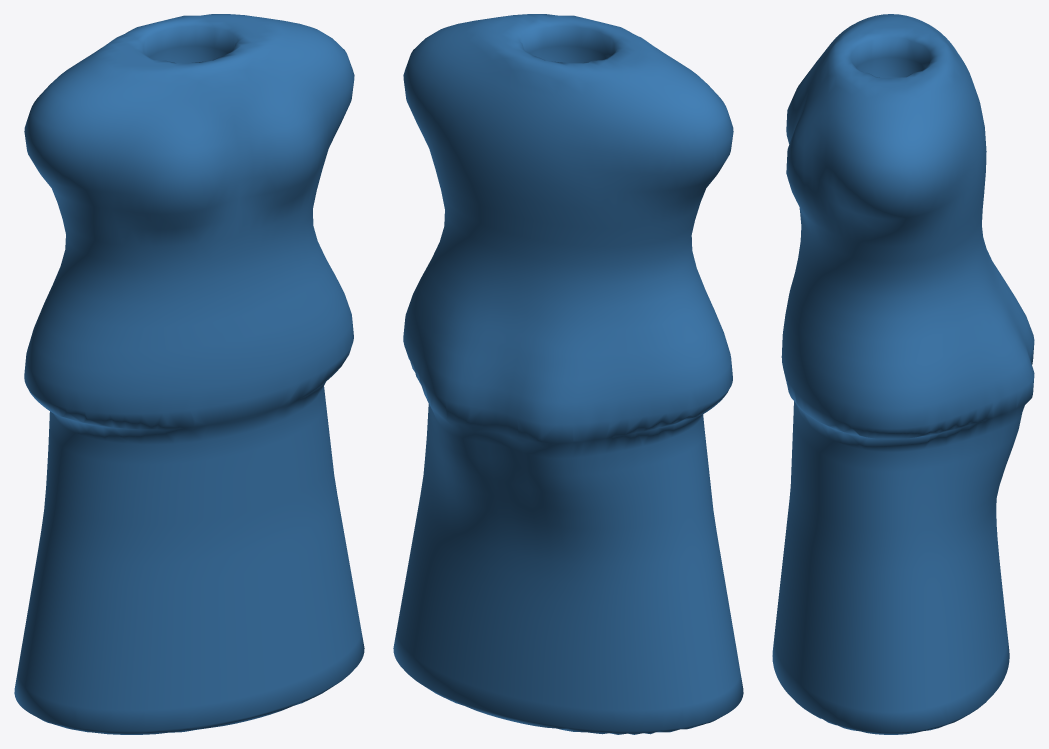
Rendered from female-dress-Mavi.glb.
3 views of the same model, side by side, from view 1: azimuth 30°, elevation 25°; view 2: azimuth 150°, elevation 25°; view 3: azimuth 270°, elevation 25° (orthographic). The views are drawn at different scales.
Visible parts, largest first — view 1: worn-bottom; view 2: worn-bottom; view 3: worn-bottom.
Part boxes in pixels (x1,y1,x2,y2): worn-bottom: [14, 14, 364, 734]; worn-bottom: [393, 14, 743, 734]; worn-bottom: [772, 14, 1034, 734].
Bounding box in the file's own units: 0.5354 × 0.995 × 0.3881.
